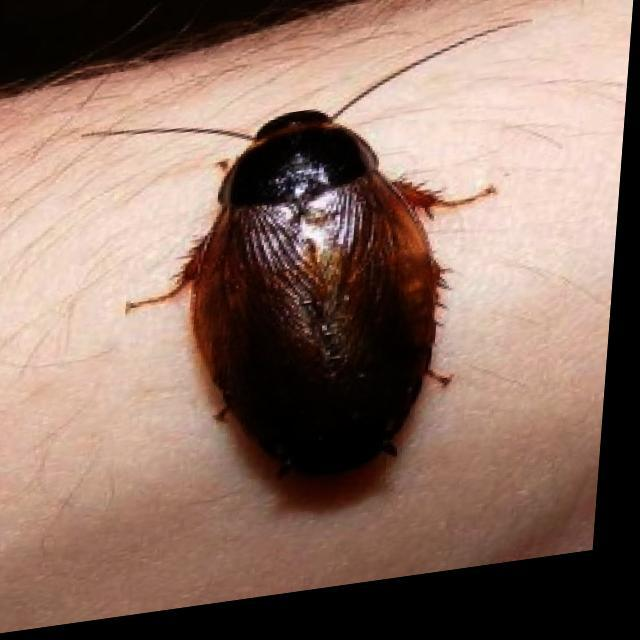cockroach: (138, 57, 514, 495)
